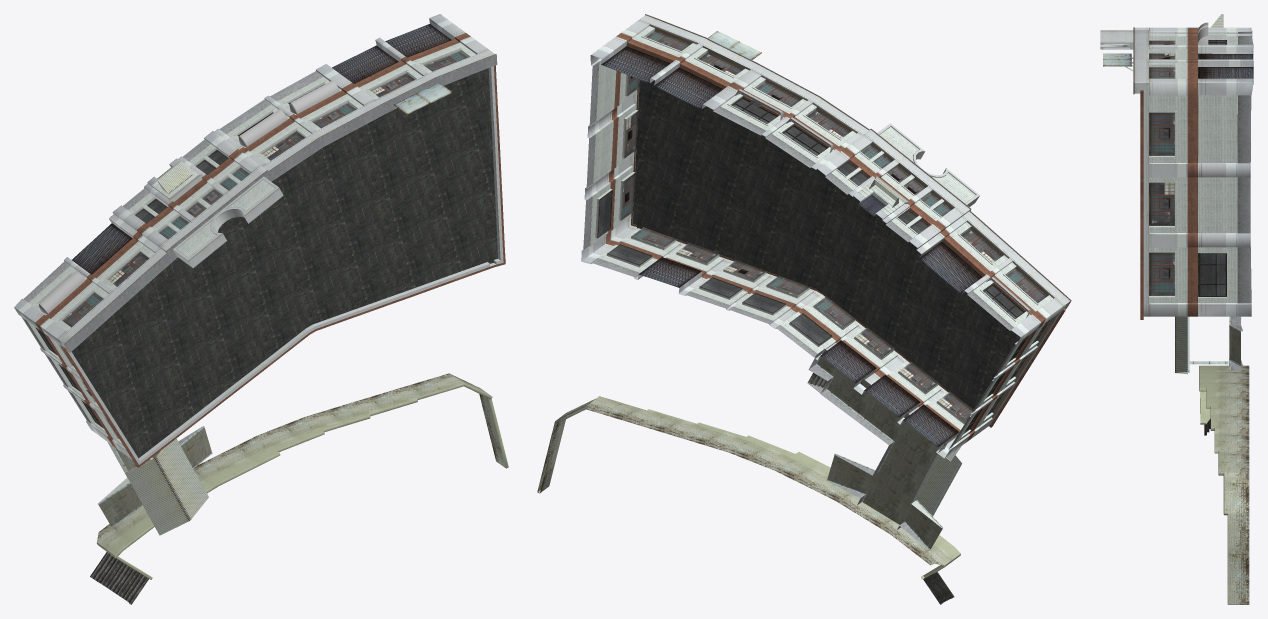
The model's file is SC11_ind01.fbx.
3 views of the same model, side by side, from view 1: azimuth 30°, elevation 25°; view 2: azimuth 150°, elevation 25°; view 3: azimuth 270°, elevation 25° (orthographic). The views are drawn at different scales.
Visible parts, largest first — view 1: sc1_11_ind2; view 2: sc1_11_ind2; view 3: sc1_11_ind2.
Part boxes in pixels (x1,y1,x2,y2): sc1_11_ind2: (14,14,508,604); sc1_11_ind2: (537,14,1071,604); sc1_11_ind2: (1100,14,1253,604).
Size of the model in its own units: 5262 by 5085 by 1332.
